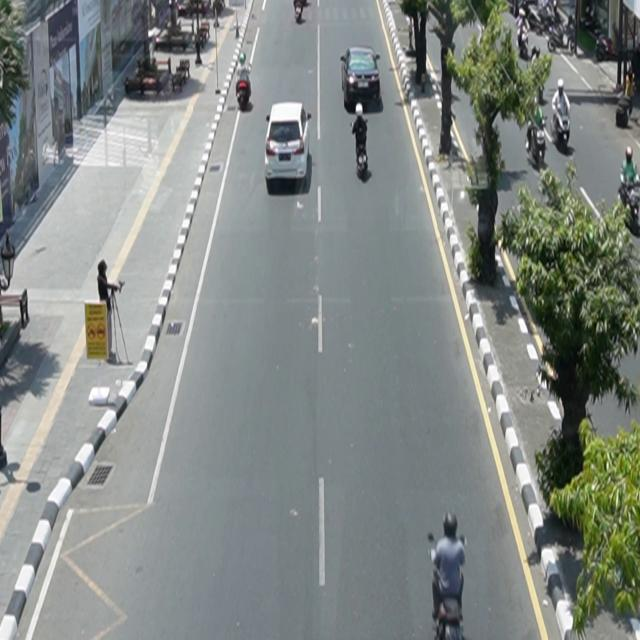car: (265, 102, 313, 184), (341, 45, 381, 110), (237, 68, 253, 108)
